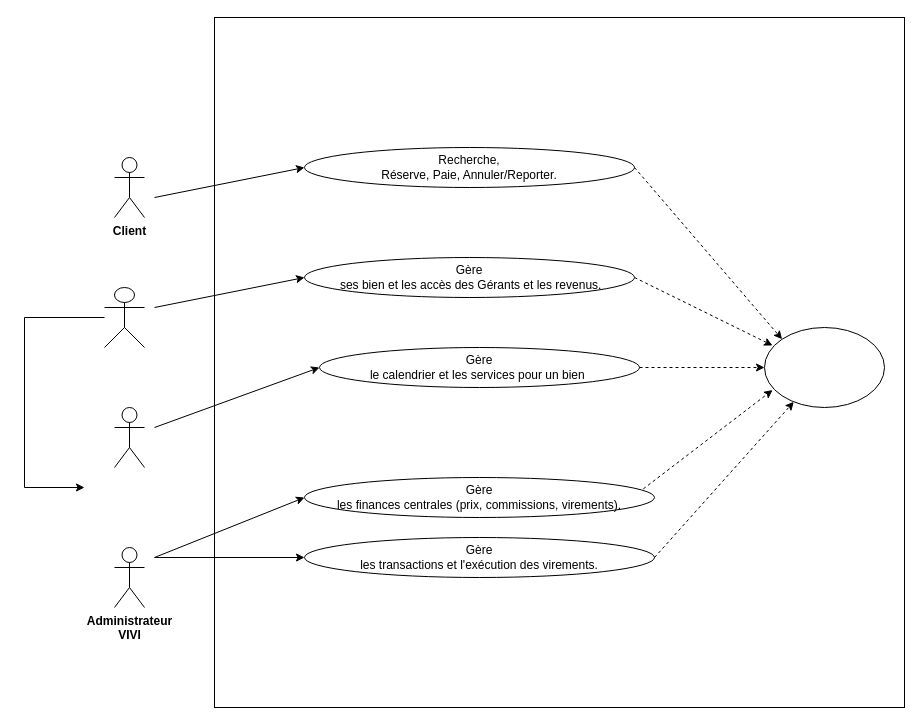
Some shapes in this 922 by 725 pixel diagram are drawn without their labels. The shapes that lost their labels are listed below. From the top down, each one's centre as x and y in pixels, then its label:
At [124,317]: "Propriétaire".
At [824,367]: "S'authentifié".
At [129,437]: "Gestionnaire de Bien".
